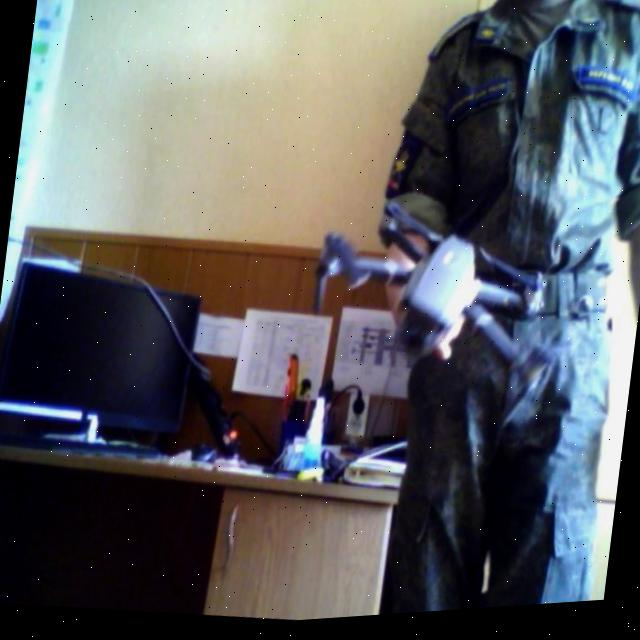drone: (297, 161, 582, 449)
